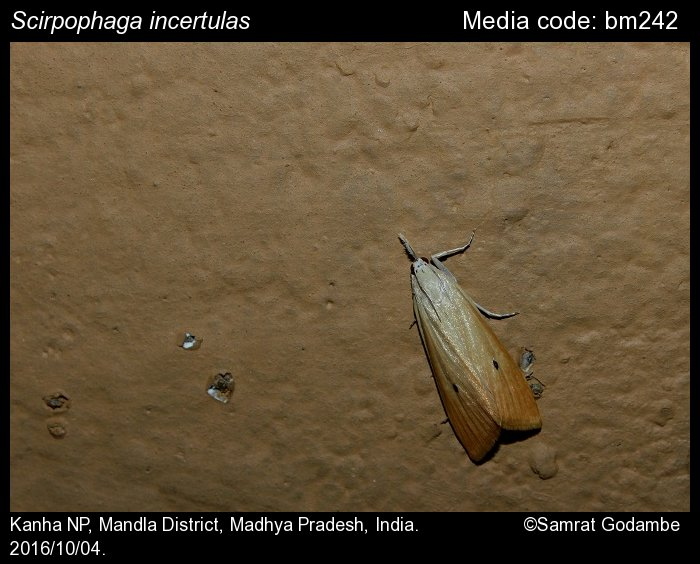Crambidae: (398, 222, 545, 466)
